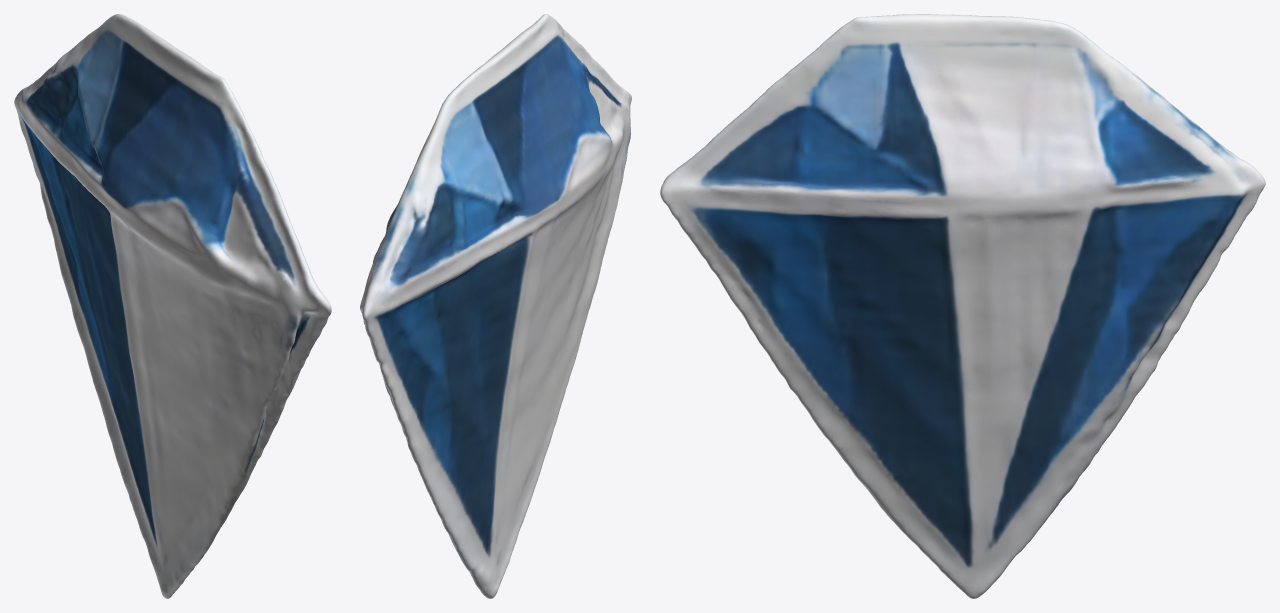
The model's file is Diamond3D.glb.
The picture shows the model from 3 angles, left to right: view 1: azimuth 30°, elevation 25°; view 2: azimuth 150°, elevation 25°; view 3: azimuth 270°, elevation 25°; orthographic projection. The views are drawn at different scales.
Visible parts, largest first — view 1: world; view 2: world; view 3: world.
Part boxes in pixels (x1,y1,x2,y2): world: (14, 14, 331, 598); world: (360, 14, 631, 598); world: (660, 14, 1265, 598).
Size of the model in its own units: 0.1204 by 0.5844 by 0.5513.
1 material, 1 textured.
